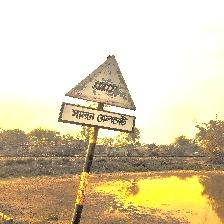Rail-crossing: (60, 56, 137, 133)
